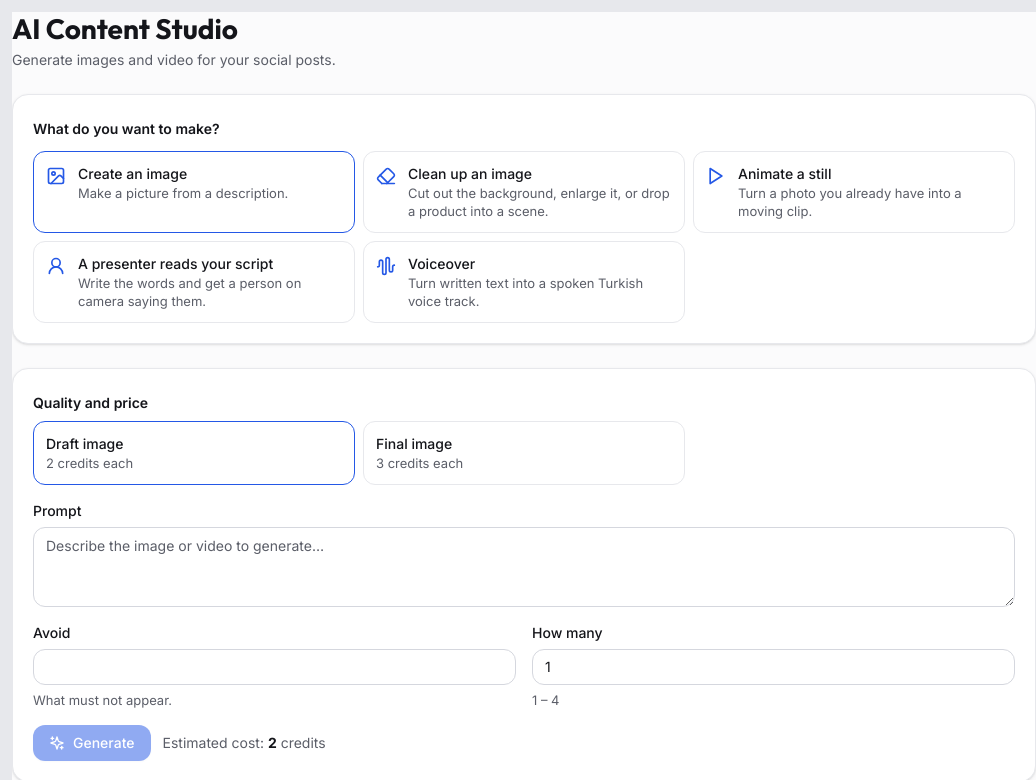
it: AiStudioPage — a cost that comes from the script › will not quote — or let you buy — an avatar with no script yet
Click the button "presenter reads your script" at point(194, 282), box [33,241,355,323]
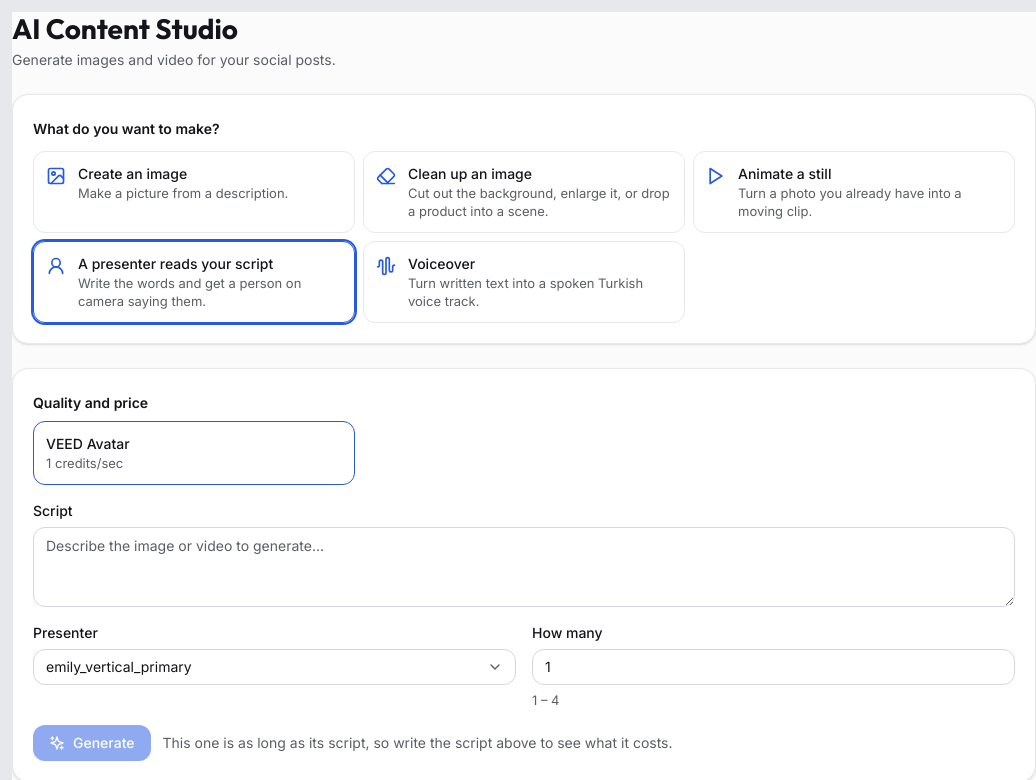
Check: the button "Generate" is disabled, box [33,725,150,761]
Check: the text with test id "credit-estimate-unpriced" is shown, box [162,733,672,753]
Check: the text with test id "credit-estimate" is gone
